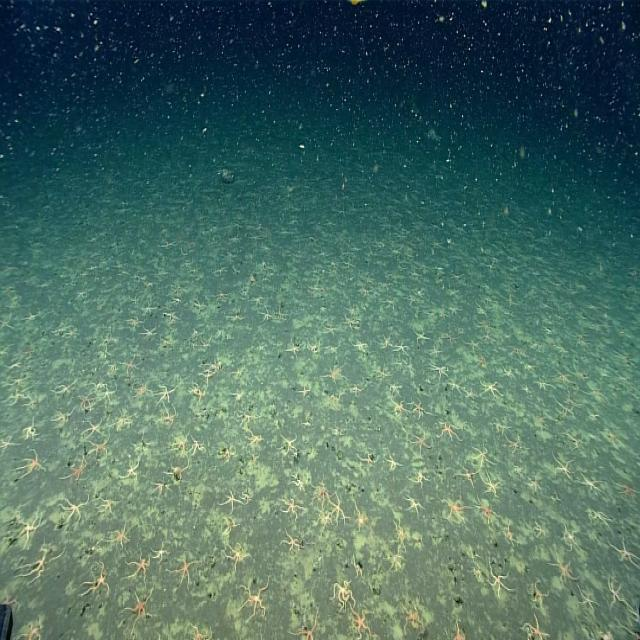brittle-stars: (126, 588, 154, 629), (240, 582, 268, 620), (19, 548, 49, 582), (84, 562, 111, 598), (172, 556, 198, 588), (612, 535, 638, 567), (348, 607, 373, 640), (15, 514, 42, 544), (127, 552, 151, 583), (332, 580, 356, 611), (552, 553, 576, 583), (488, 563, 509, 595), (62, 494, 84, 524), (296, 610, 318, 640), (444, 494, 466, 522), (19, 449, 40, 478), (525, 614, 548, 640), (476, 497, 495, 528), (108, 522, 130, 548), (607, 577, 626, 607), (581, 471, 605, 494), (403, 602, 423, 629), (612, 480, 638, 500), (578, 586, 597, 613), (552, 455, 574, 478), (438, 419, 459, 443), (224, 543, 243, 569), (528, 582, 547, 608), (480, 472, 500, 495), (354, 504, 370, 532), (394, 518, 409, 546), (282, 497, 301, 519), (472, 444, 491, 466), (282, 528, 300, 551), (218, 490, 238, 510), (151, 543, 170, 564), (479, 380, 500, 399), (331, 494, 345, 522), (189, 621, 209, 640), (506, 432, 524, 453), (314, 481, 329, 506), (405, 494, 422, 516), (502, 520, 516, 546), (461, 466, 479, 486), (429, 362, 448, 380), (99, 498, 115, 519), (386, 452, 402, 472), (22, 420, 36, 442), (222, 517, 238, 536), (412, 433, 428, 452), (451, 618, 464, 640), (1, 434, 15, 454), (411, 398, 425, 418), (394, 338, 410, 355), (392, 398, 407, 416), (375, 362, 390, 380), (532, 522, 546, 540), (535, 376, 550, 392), (555, 368, 569, 385), (448, 378, 462, 392)
